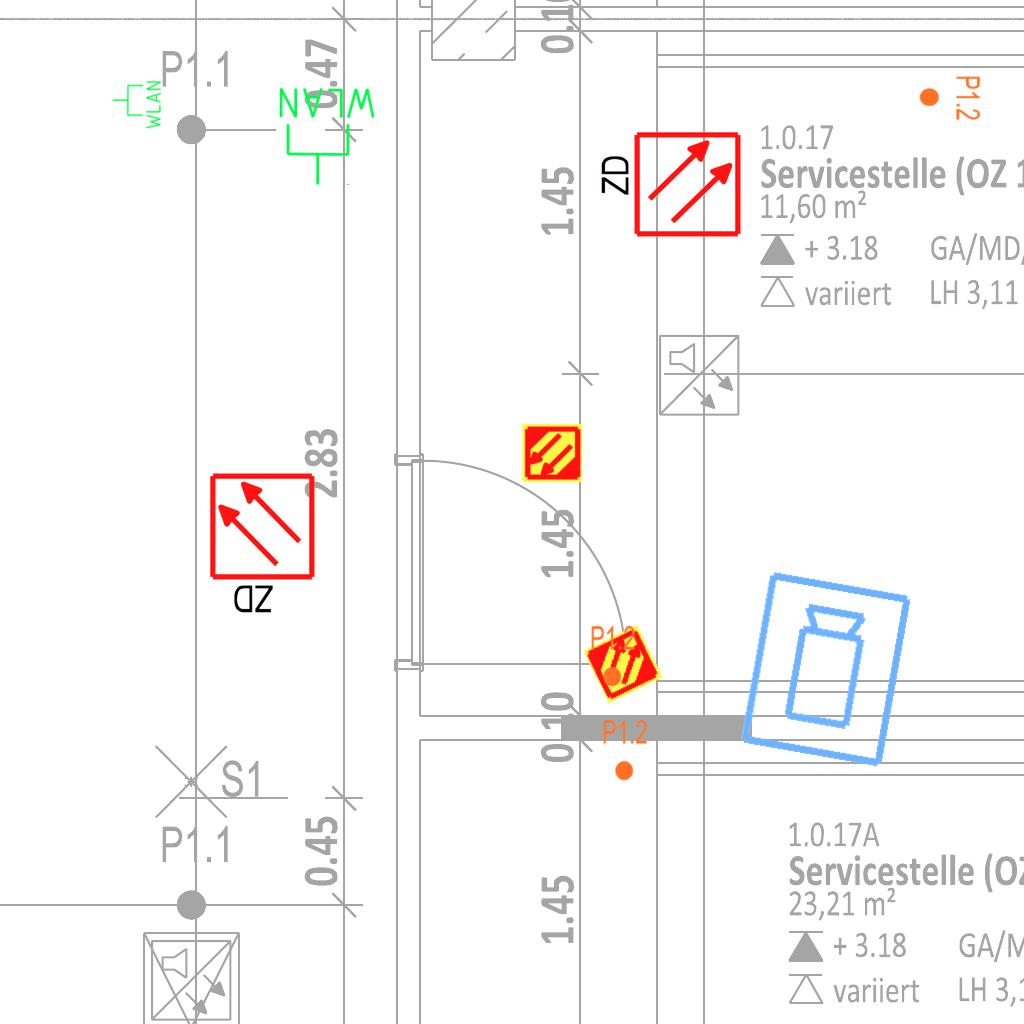ASR_Ansaugrauchmelder: (581, 622, 665, 706), (521, 422, 583, 484)
Downlight_LED_Einbauleuchten_Flur: (602, 718, 648, 782), (918, 75, 982, 121), (590, 624, 636, 688)
KFO_Kamera_mit_Festobjektiv: (735, 567, 919, 773)
WLAN: (275, 84, 380, 188), (111, 79, 163, 131)
ZD_Melder_in_Zwischendecke_mit_Revisionsoeffnung_mind_40_x_40_cm: (594, 129, 743, 243), (207, 471, 321, 620)
